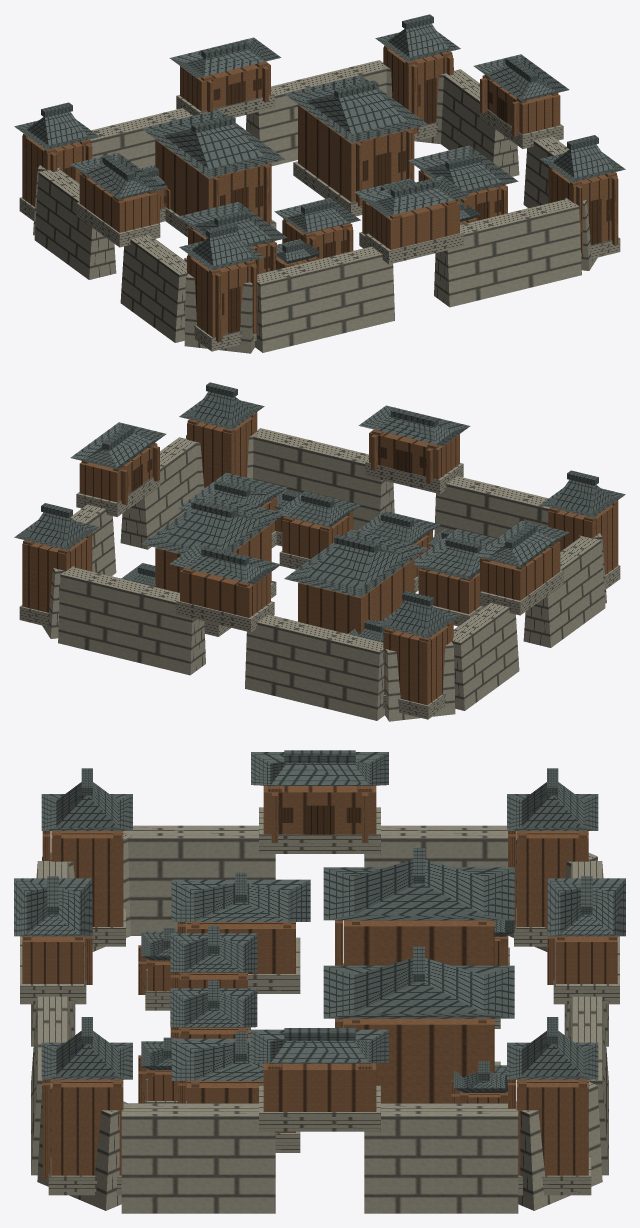
Rendered from city1-lod1.glb.
3 renders of one model, top to bottom at view 1: azimuth 30°, elevation 25°; view 2: azimuth 150°, elevation 25°; view 3: azimuth 270°, elevation 25°, orthographic. The views are drawn at different scales.
Size of the model in its own units: 2.15 by 0.561 by 1.79.
1 material, 1 textured.
